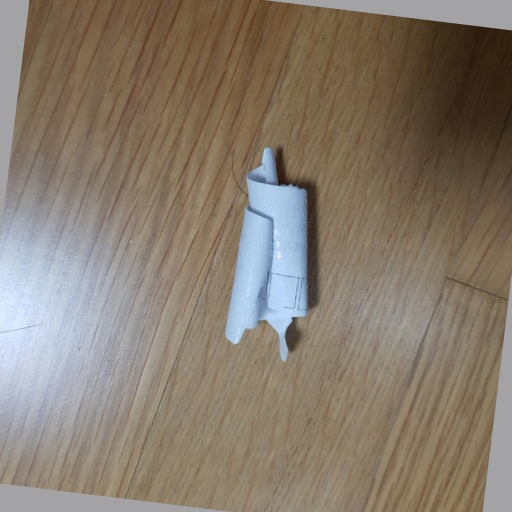Paper_3: (183, 142, 360, 367)
